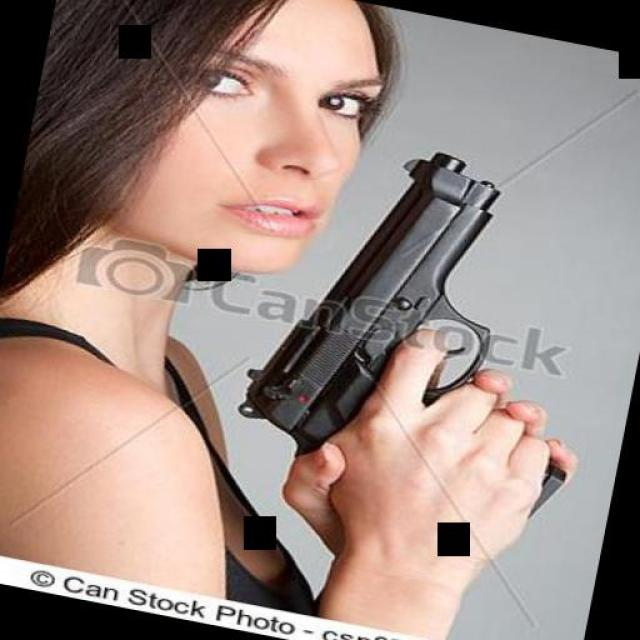gun: (226, 117, 624, 532)
